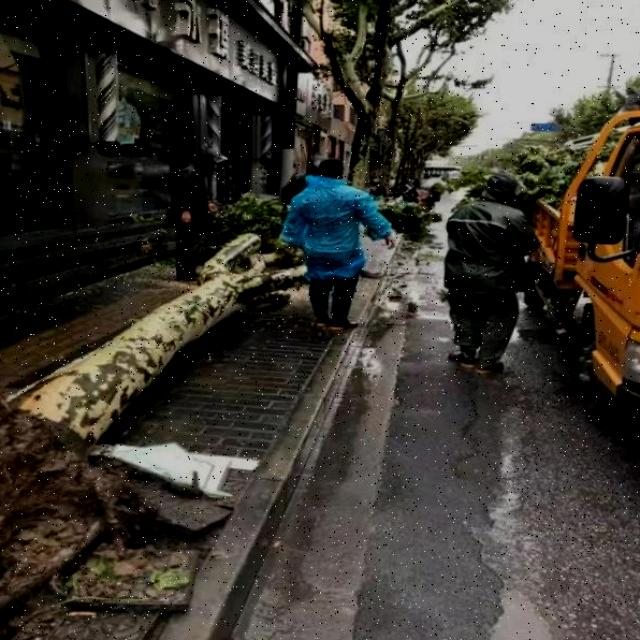fallen_object: (0, 219, 387, 582)
